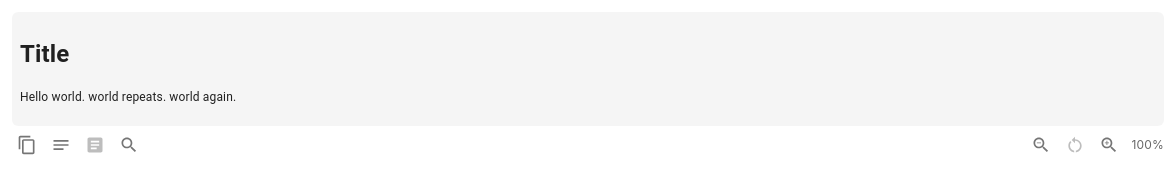
it: TextBody integration › wraps the prev / next match around the ends of the list
Click the button named "View raw markdown source": (61, 145) [46, 130, 76, 160]
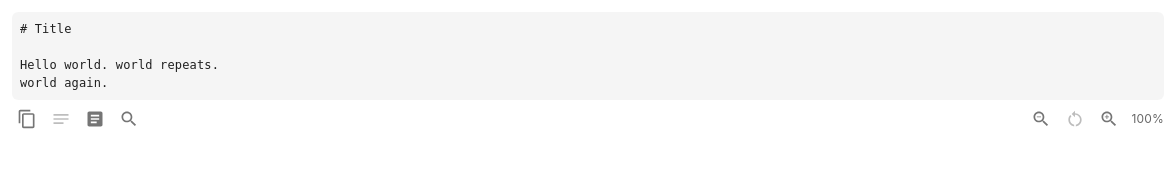
Click the button named "Search in file": (129, 119) [114, 104, 144, 134]
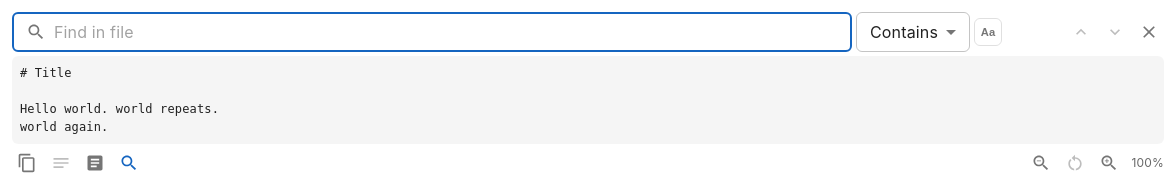
In the field named "Search text in preview": (453, 32) [54, 12, 852, 52], type "world"
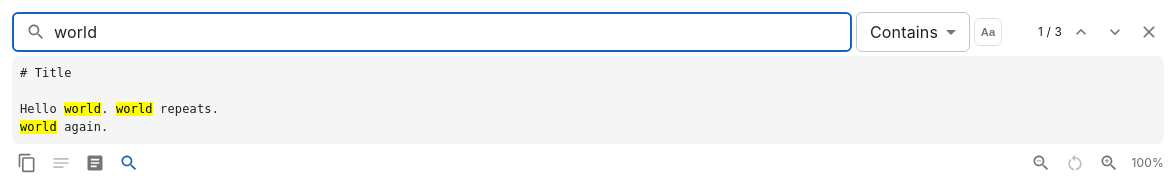
Expected: the text "1 / 3" is shown, [1038, 24, 1062, 39]
Click the button named "Previous match": (1081, 32) [1066, 17, 1096, 47]
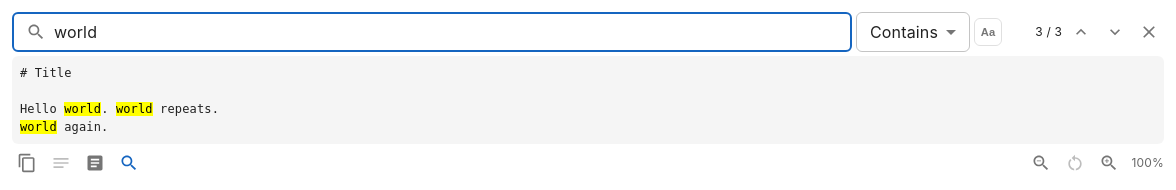
Expected: the text "3 / 3" is shown, [1035, 24, 1062, 39]
